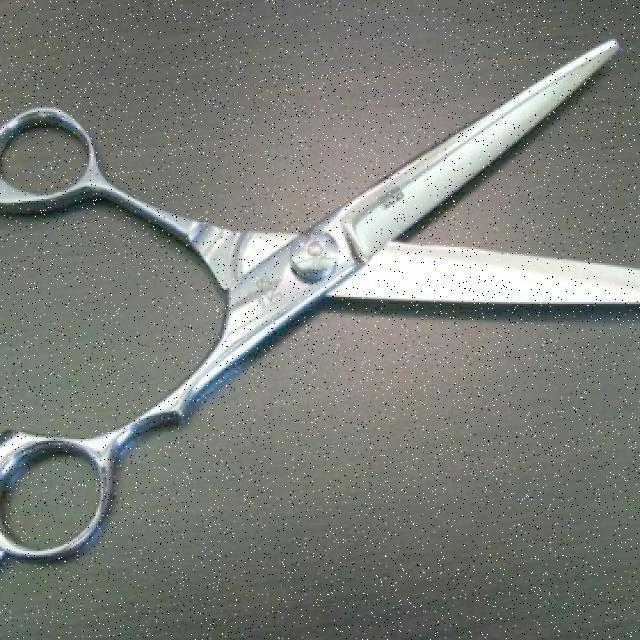scissors: (0, 36, 640, 571)
